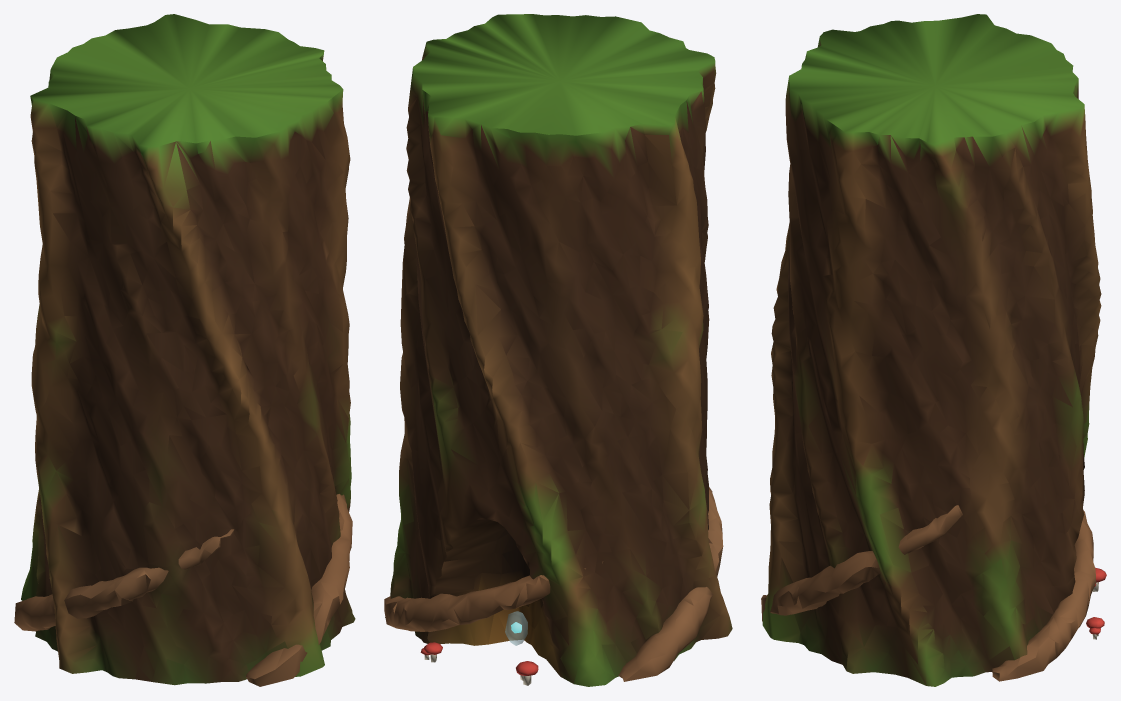
File: glade_burrow_spire_lod1.glb
3 renders of one model, left to right at view 1: azimuth 30°, elevation 25°; view 2: azimuth 150°, elevation 25°; view 3: azimuth 270°, elevation 25°, orthographic.
Parts seen in each view (by area): view 1: glade_burrow_spire.001; view 2: glade_burrow_spire.001, crown.001; view 3: glade_burrow_spire.001.
Part boxes in pixels (x1,y1,x2,y2): glade_burrow_spire.001: [14, 14, 355, 686]; glade_burrow_spire.001: [384, 14, 732, 686]; crown.001: [505, 611, 527, 645]; glade_burrow_spire.001: [761, 14, 1106, 686].
Size of the model in its own units: 16.39 by 28.01 by 16.43.
